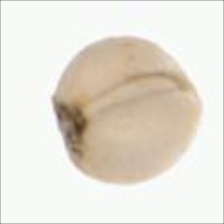L5: (80, 70, 200, 113), (50, 93, 89, 168)
L6: (49, 33, 205, 185)
